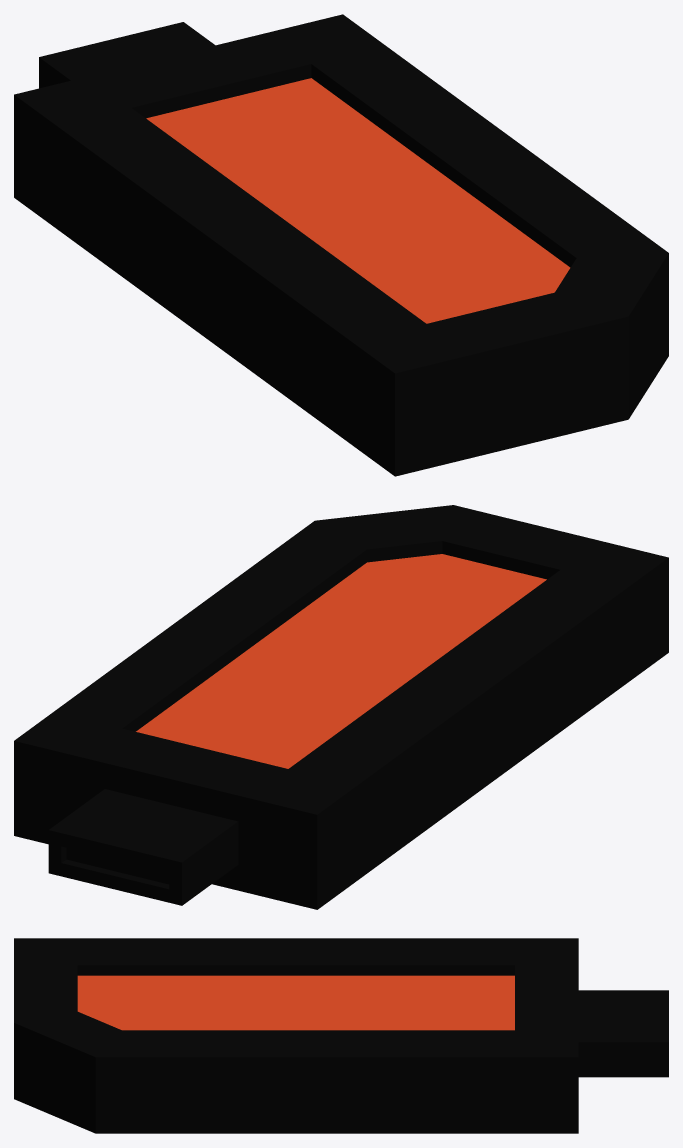
The model's file is flash drive.fbx.
3 views of the same model, one above another, from view 1: azimuth 30°, elevation 25°; view 2: azimuth 150°, elevation 25°; view 3: azimuth 270°, elevation 25° (orthographic). The views are drawn at different scales.
Parts seen in each view (by area): view 1: flashdrive; view 2: flashdrive; view 3: flashdrive.
Boxes of the visible parts, <box> form: flashdrive: <box>14,14,668,476</box>; flashdrive: <box>14,505,668,909</box>; flashdrive: <box>14,938,668,1133</box>.
Size of the model in its own units: 0.6985 by 0.2091 by 1.63.
